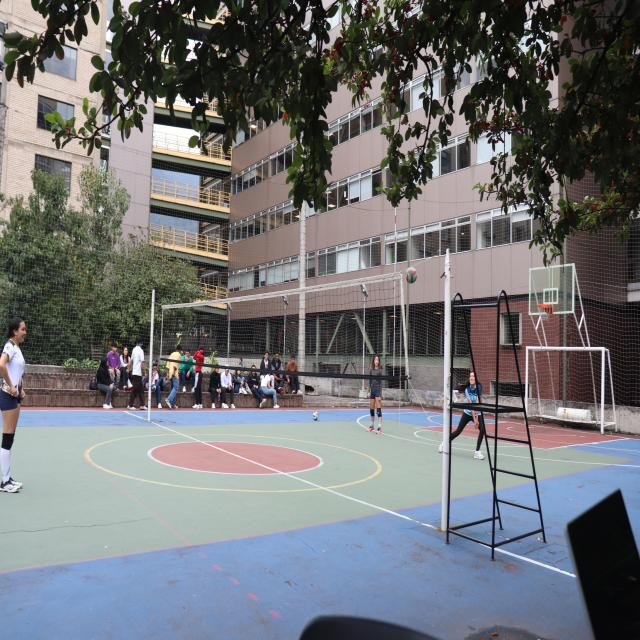volleyball: (406, 267, 418, 284), (312, 412, 318, 421)
